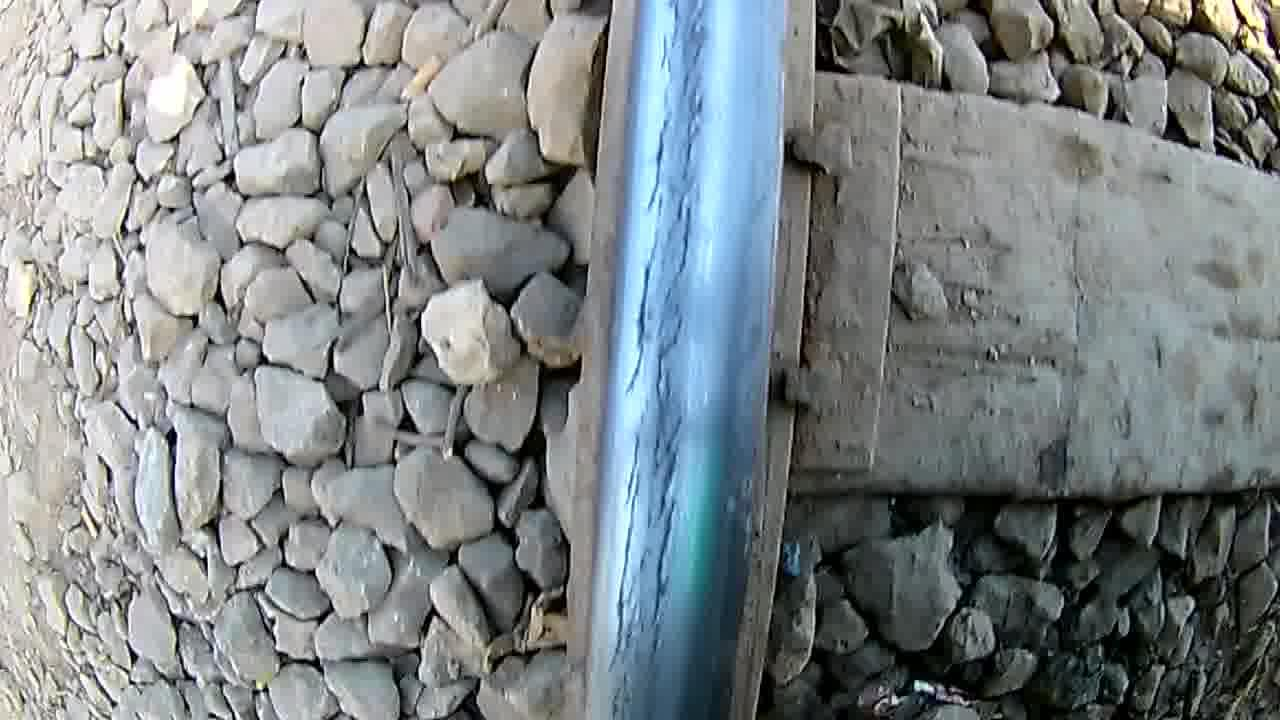normal_track: (607, 3, 734, 720)
